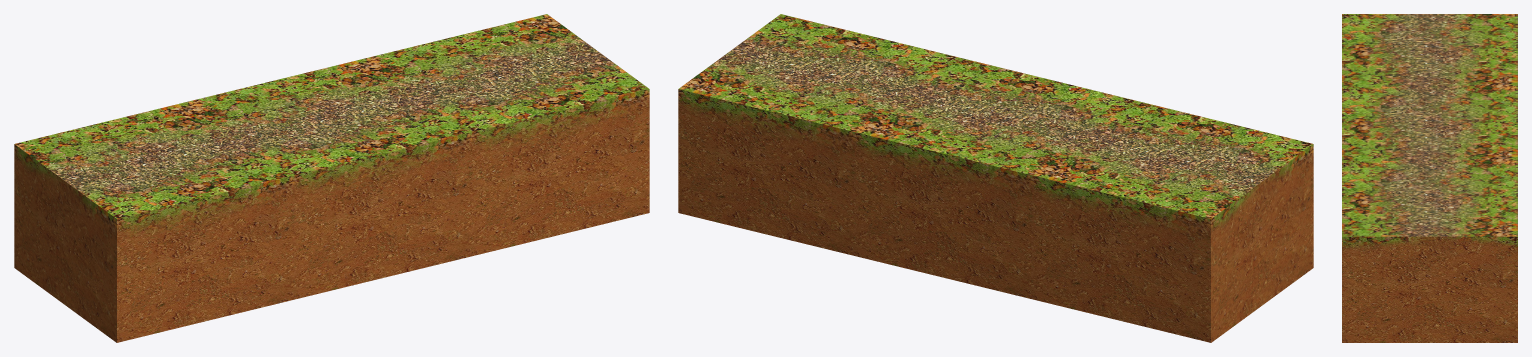
The model's file is Ground-3.fbx.
3 views of the same model, side by side, from view 1: azimuth 30°, elevation 25°; view 2: azimuth 150°, elevation 25°; view 3: azimuth 270°, elevation 25° (orthographic). The views are drawn at different scales.
Visible parts, largest first — view 1: pCube1, pCube2, pCube3; view 2: pCube1, pCube2, pCube3; view 3: pCube3, pCube1, pCube2.
Part boxes in pixels (<box>): pCube1: <box>14,100,294,342</box>; pCube2: <box>192,57,471,299</box>; pCube3: <box>370,14,649,256</box>; pCube1: <box>1033,100,1313,342</box>; pCube2: <box>856,57,1135,299</box>; pCube3: <box>678,14,957,256</box>; pCube3: <box>1342,162,1517,342</box>; pCube1: <box>1342,14,1517,88</box>; pCube2: <box>1342,88,1517,162</box>.
Bounding box in the file's own units: 9 × 2 × 3.
